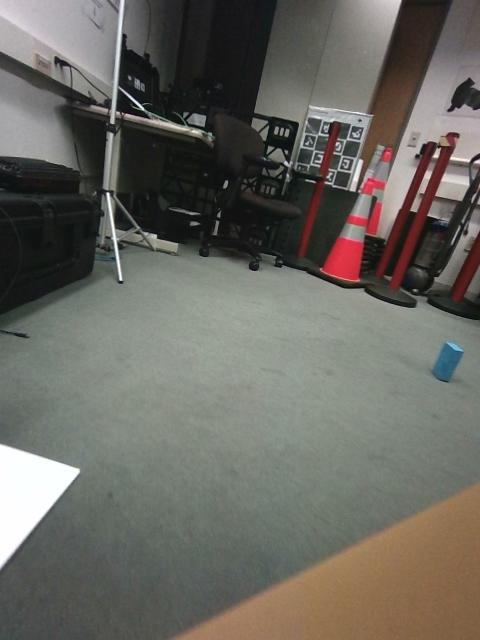block: (135, 341, 192, 422)
